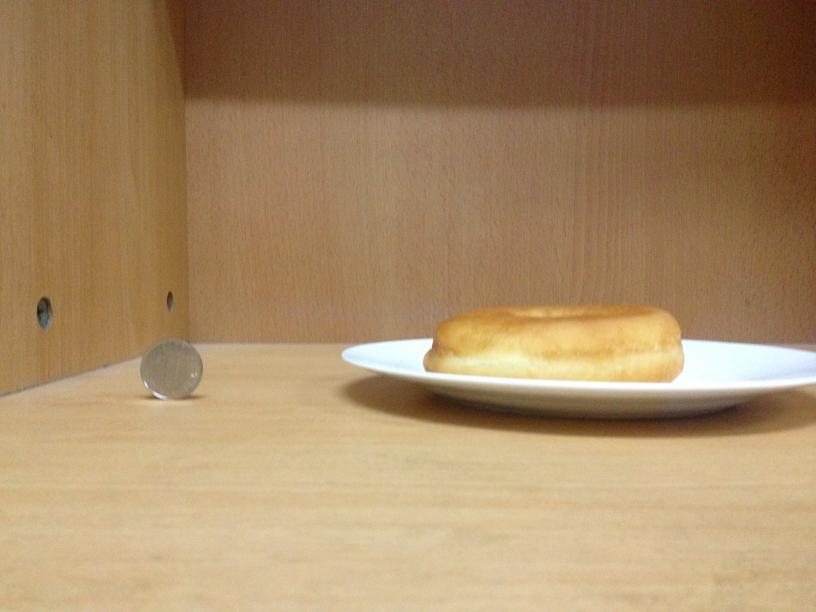coin: (139, 339, 203, 400)
doughnut: (425, 303, 683, 381)
